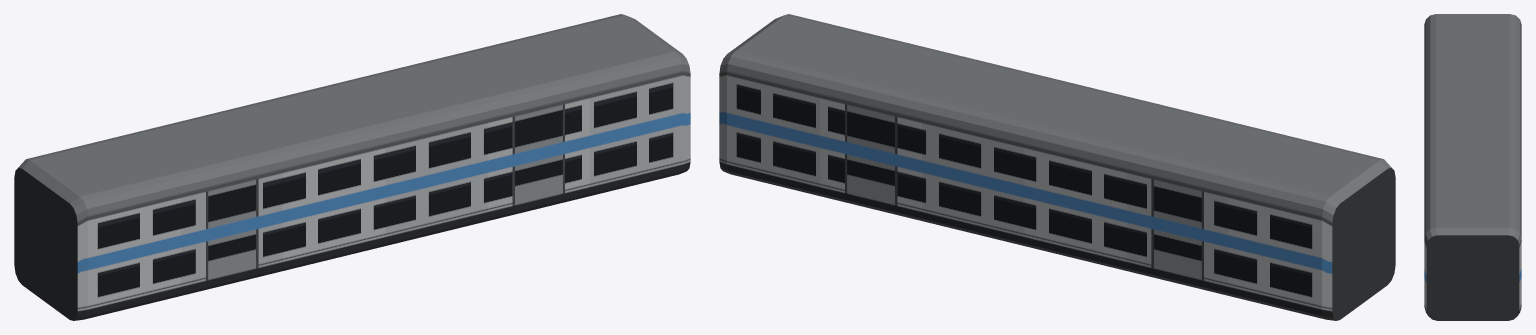
The model's file is rer_generic_B__neutral.glb.
The picture shows the model from 3 angles, left to right: view 1: azimuth 30°, elevation 25°; view 2: azimuth 150°, elevation 25°; view 3: azimuth 270°, elevation 25°; orthographic projection. The views are drawn at different scales.
Visible parts, largest first — view 1: rer_generic_B__neutral; view 2: rer_generic_B__neutral; view 3: rer_generic_B__neutral.
Boxes of the visible parts, <box> form: rer_generic_B__neutral: <box>14,14,690,320</box>; rer_generic_B__neutral: <box>719,14,1395,320</box>; rer_generic_B__neutral: <box>1424,14,1521,320</box>.
Size of the model in its own units: 15 by 2.85 by 2.8.
1 material, 1 textured.
